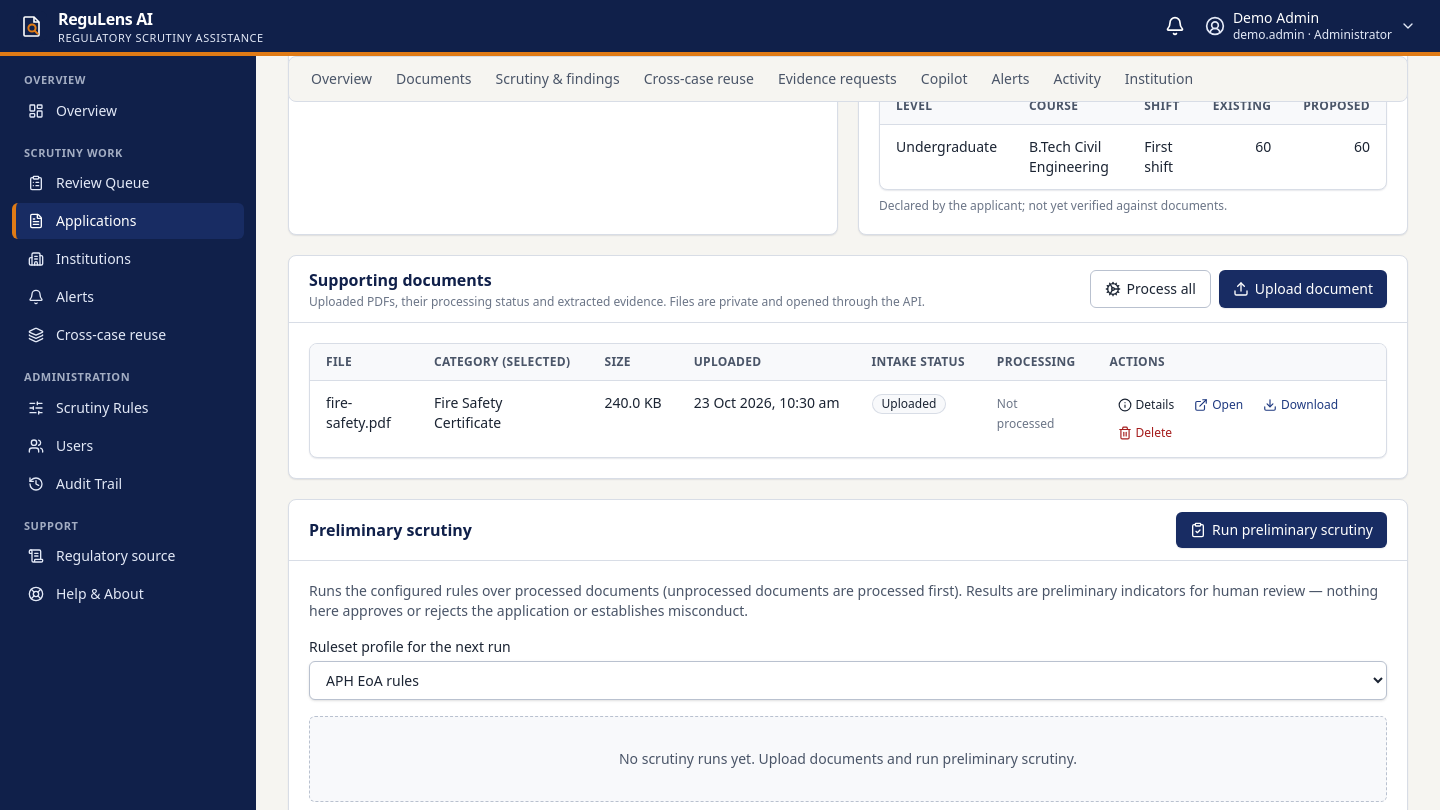
Document processing and evidence › processes a document and shows fields with evidence quotes
(page scrolled)
Expected: the text "Not processed" is shown, [997,395,1054,432]
Step 1. Click the button with aria-label "Details for fire-safety.pdf" → [1146, 405], box [1110,393,1182,417]
(page scrolled)
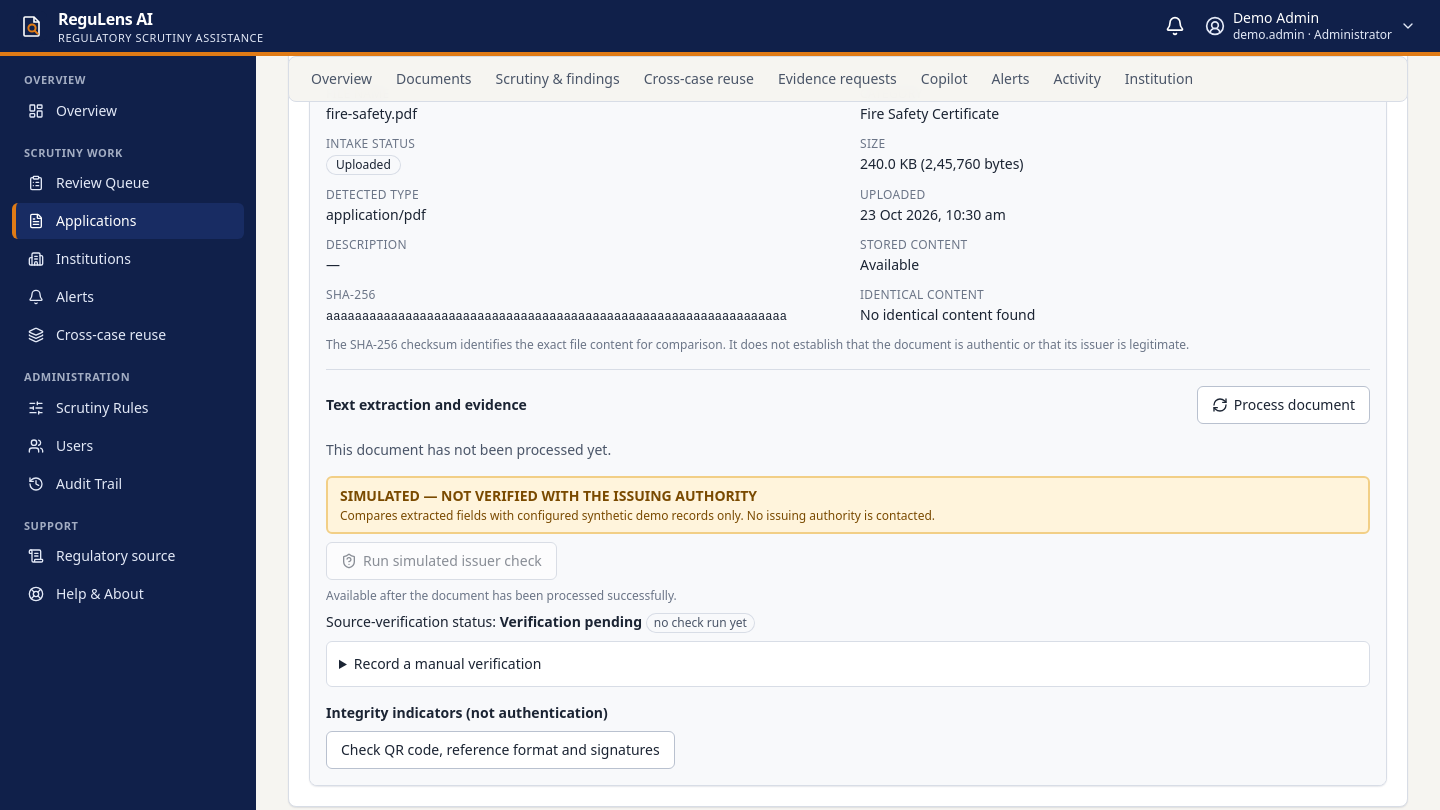
Expected: the text "This document has not been processed yet." is shown, [326,440,611,459]
Expected: the button "Run simulated issuer check" is disabled, [326,542,557,580]
Step 2. Click the button "Process document" → [1283, 405], box [1197,386,1370,424]
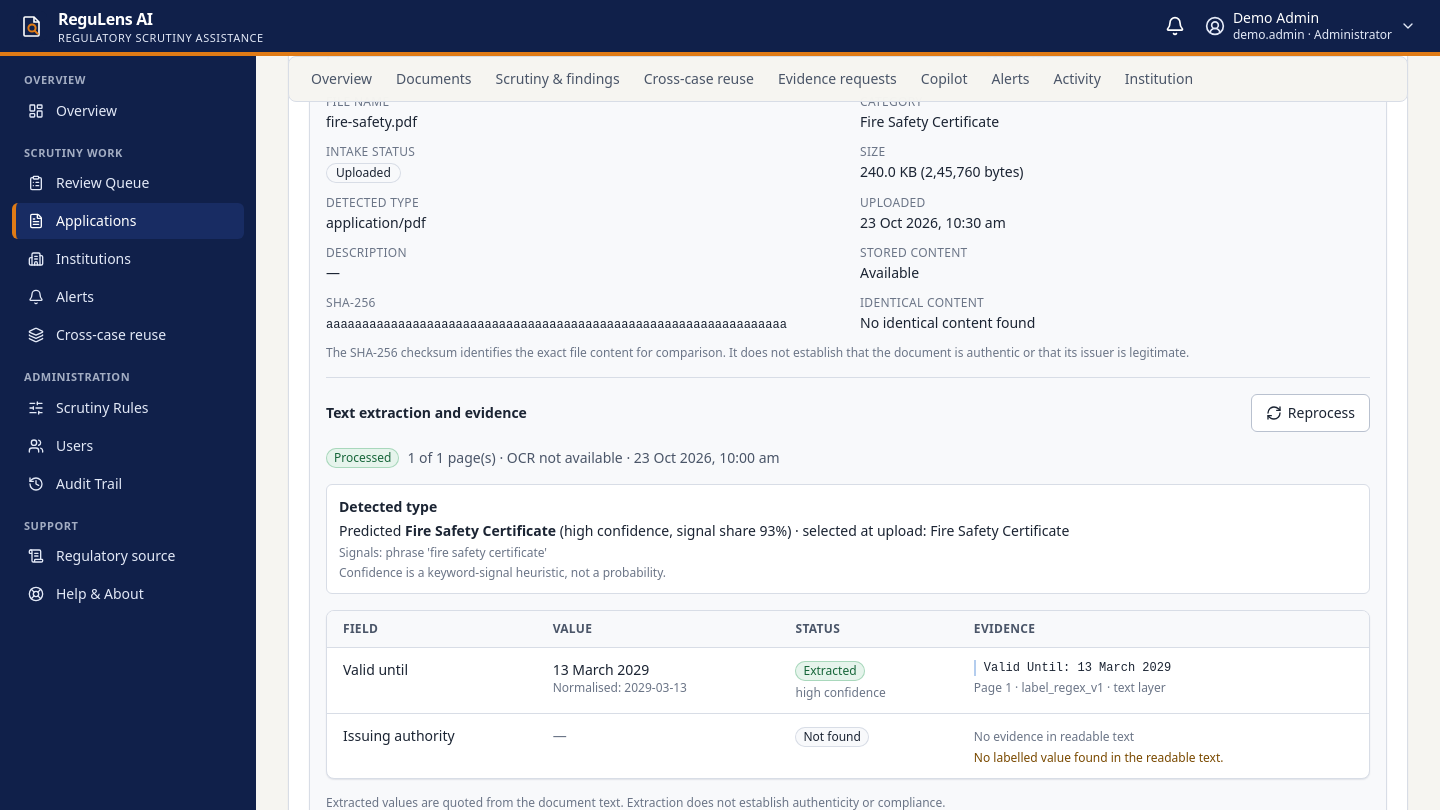
Expected: the row "Valid until" shows "13 March 2029", [553,660,649,679]
Expected: the row "Valid until" shows "Normalised: 2029-03-13", [327,648,1369,714]
Expected: the row "Valid until" shows "Valid Until: 13 March 2029", [984,661,1171,675]
